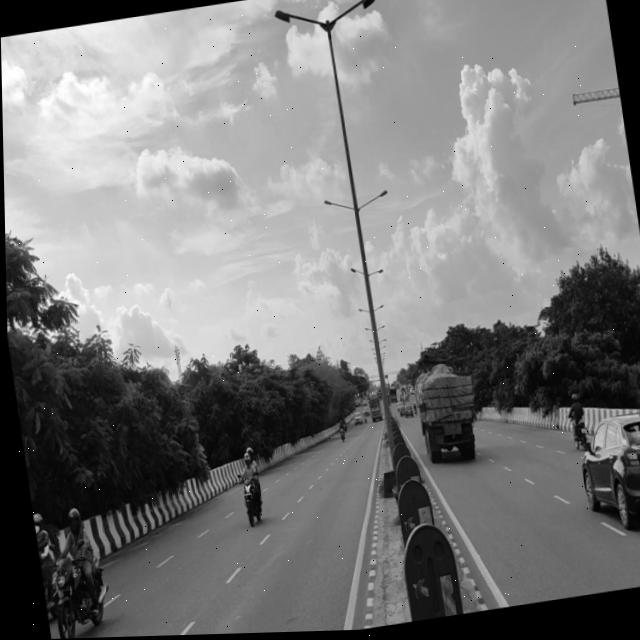bike: (45, 552, 106, 639), (230, 471, 267, 534), (560, 409, 591, 455)
car: (568, 407, 640, 550)
truck: (403, 347, 485, 473)
